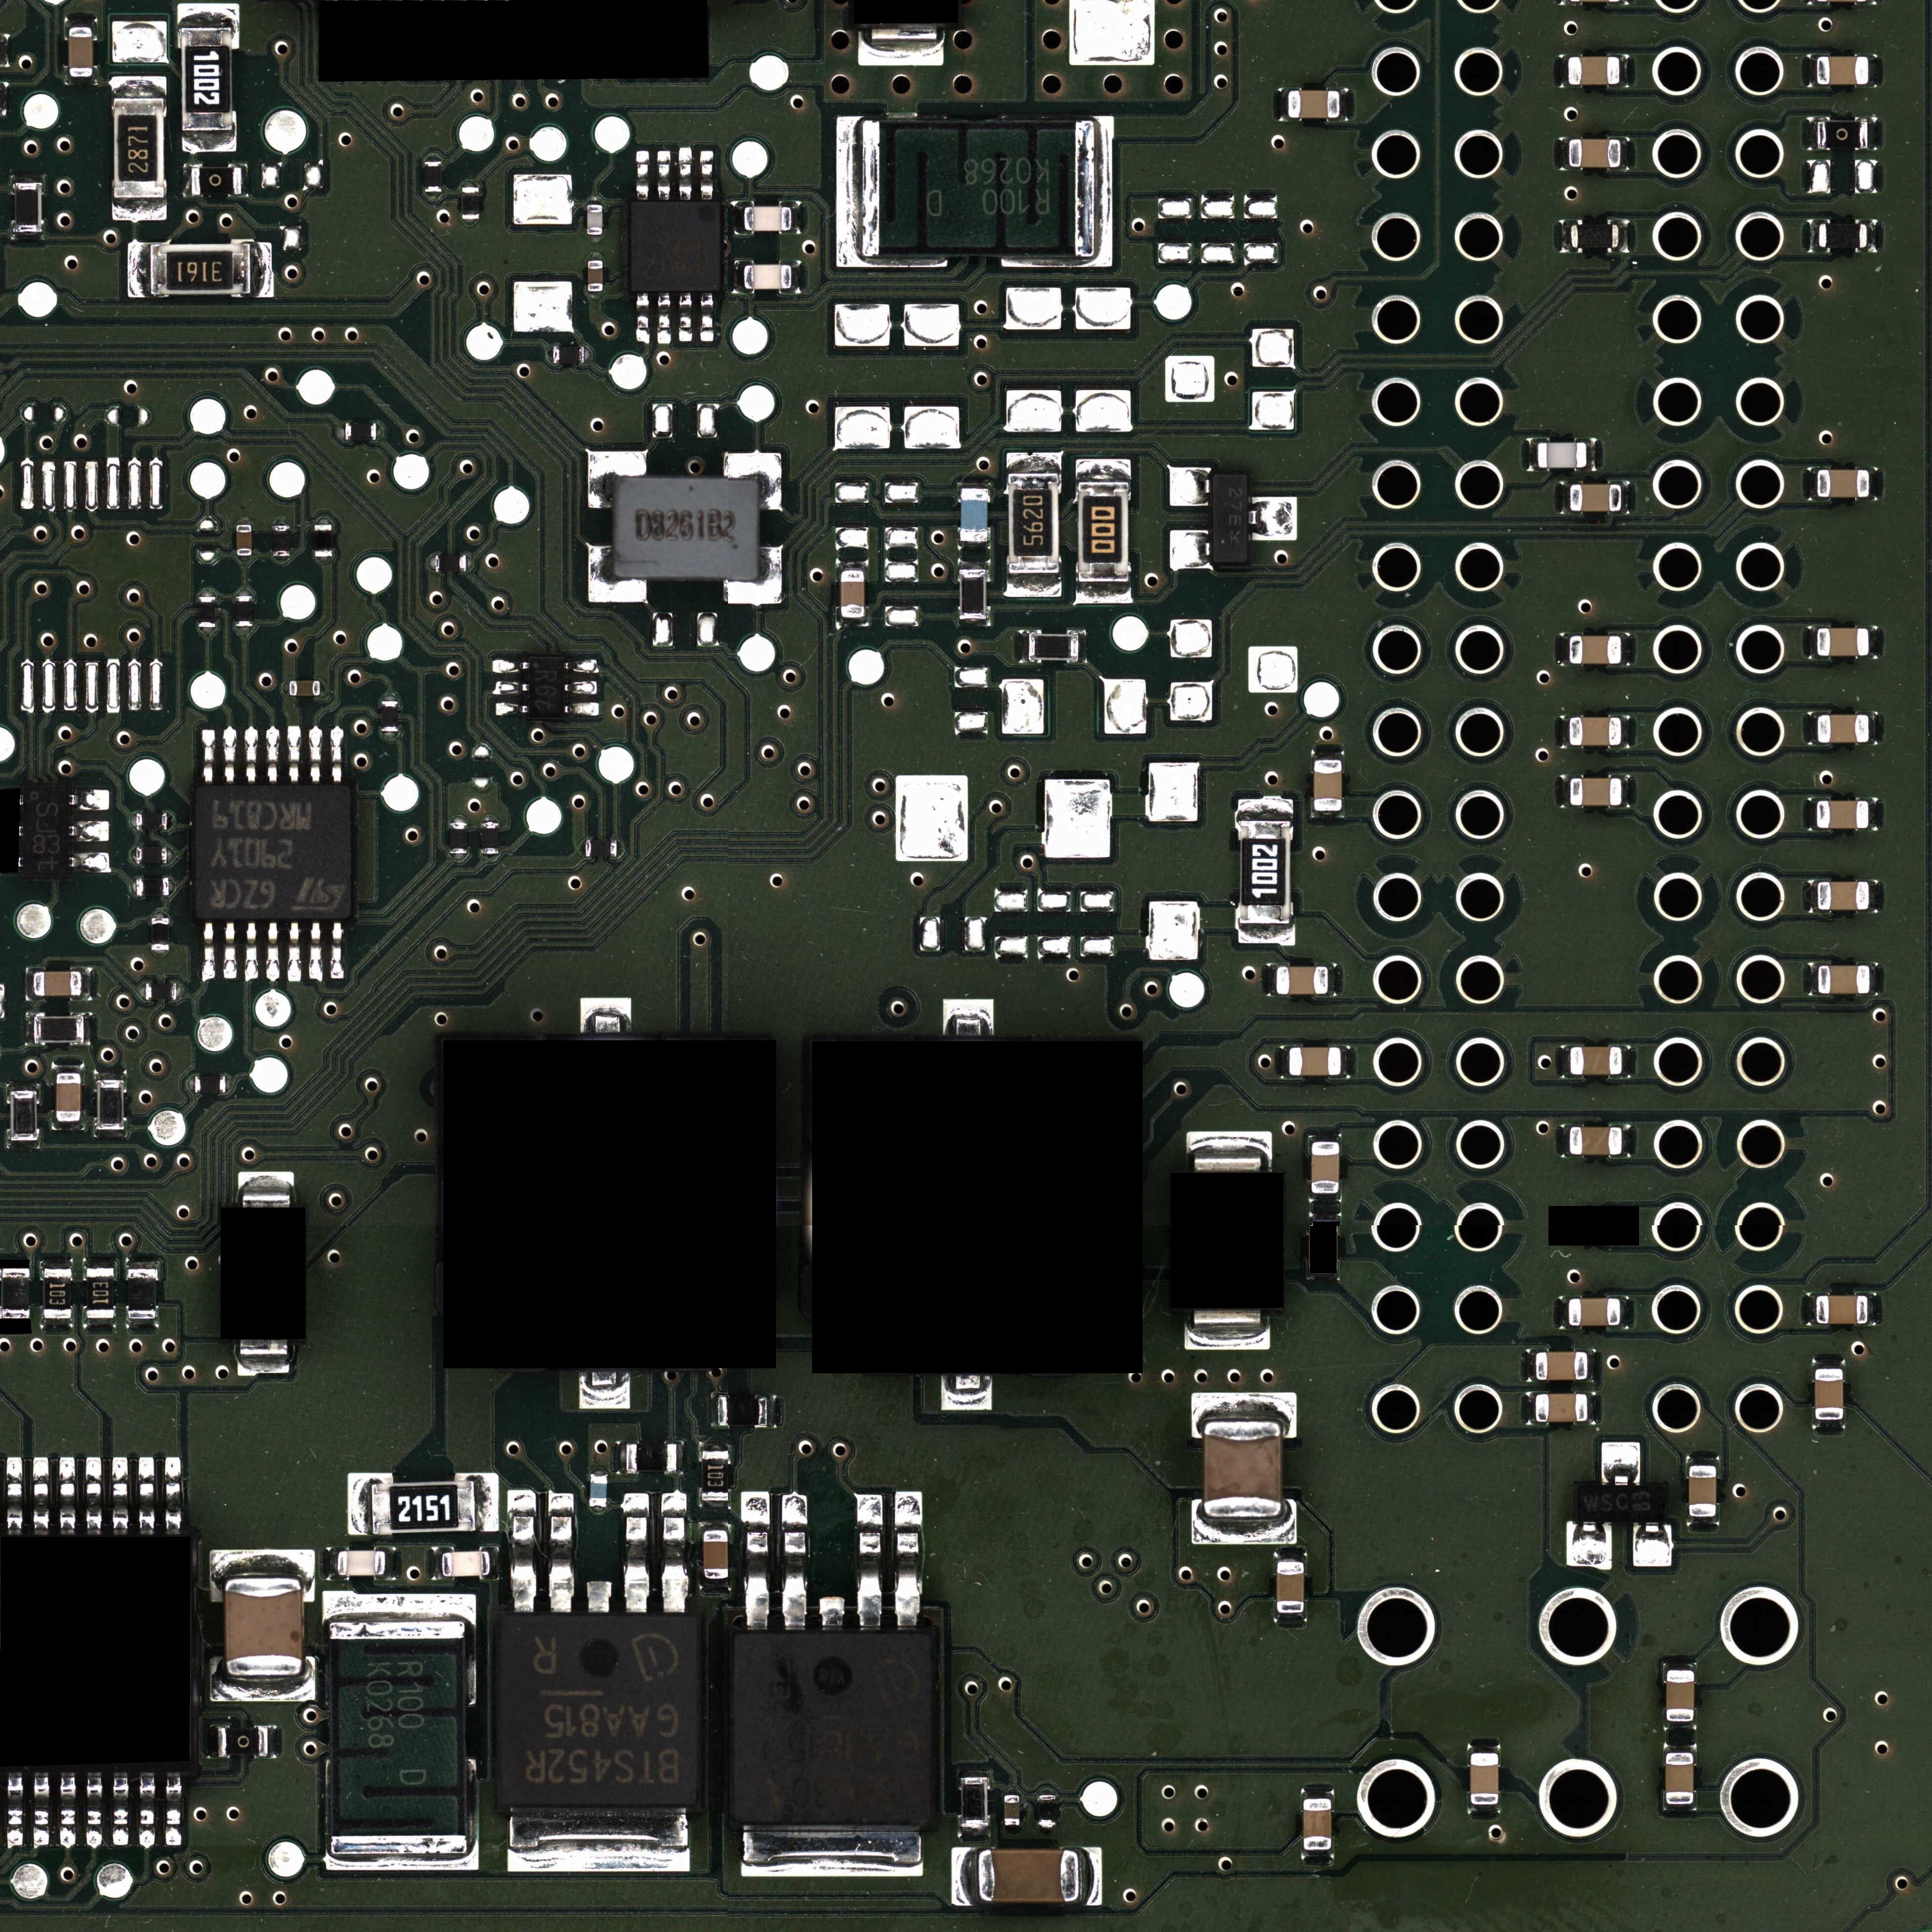Package: (499, 1616, 698, 1807), (734, 1634, 932, 1824), (863, 120, 1095, 257), (331, 1621, 467, 1853), (193, 784, 352, 919), (611, 476, 760, 580), (630, 201, 722, 291), (221, 1580, 306, 1676), (1201, 1422, 1284, 1516), (1238, 822, 1291, 924), (372, 1481, 475, 1533), (978, 1849, 1078, 1902), (182, 29, 234, 130), (151, 244, 250, 295), (1008, 475, 1059, 573), (1078, 483, 1129, 581), (114, 99, 164, 197), (24, 787, 68, 876), (1575, 1484, 1666, 1522), (1212, 474, 1249, 564), (529, 655, 564, 717), (1816, 56, 1869, 85), (1817, 965, 1870, 994), (960, 488, 988, 542), (1816, 800, 1869, 829), (1570, 1127, 1622, 1156), (1569, 717, 1621, 746), (1569, 139, 1621, 168), (1568, 56, 1620, 85), (1817, 628, 1869, 657), (1816, 1296, 1868, 1324), (1536, 1352, 1588, 1380), (1289, 1047, 1341, 1076), (1817, 469, 1869, 497), (1569, 1047, 1622, 1075), (1535, 1394, 1588, 1422), (1570, 636, 1621, 665), (1818, 882, 1869, 911), (1303, 1798, 1332, 1850), (217, 1727, 268, 1756), (1817, 715, 1869, 743), (1276, 966, 1328, 994), (1311, 1142, 1340, 1194), (1568, 1298, 1620, 1326), (626, 1444, 677, 1472), (1815, 1369, 1843, 1420), (128, 1269, 158, 1318), (1470, 1753, 1498, 1804), (1665, 1752, 1693, 1804), (718, 1397, 767, 1426), (1569, 484, 1621, 512), (1288, 91, 1340, 118), (1666, 1670, 1694, 1721), (1570, 778, 1621, 806), (1314, 760, 1342, 811), (1816, 121, 1867, 148), (1689, 1465, 1717, 1516), (1277, 1561, 1304, 1613), (87, 1268, 114, 1318), (44, 1268, 71, 1318), (2, 1268, 30, 1318), (192, 167, 241, 194), (702, 1450, 728, 1500), (34, 1016, 84, 1043), (1538, 442, 1587, 469), (960, 570, 986, 619), (1029, 634, 1078, 660), (962, 1777, 987, 1827), (15, 183, 41, 232), (1571, 223, 1619, 249), (11, 1091, 36, 1141), (1818, 223, 1867, 248), (34, 971, 82, 997), (98, 1080, 123, 1129), (56, 1073, 81, 1121), (744, 264, 791, 290), (704, 1530, 728, 1579), (69, 27, 93, 77), (338, 1551, 385, 1576), (442, 1551, 489, 1576), (744, 206, 791, 231), (841, 571, 865, 617), (313, 524, 334, 557), (1038, 1794, 1057, 1828), (461, 187, 480, 219), (151, 918, 170, 950), (423, 161, 442, 193), (145, 982, 177, 1001), (553, 345, 585, 364), (381, 700, 398, 732), (136, 812, 167, 830), (481, 822, 499, 854), (137, 878, 169, 896), (434, 555, 466, 572), (449, 821, 467, 854), (345, 423, 376, 440), (590, 1474, 607, 1507), (273, 526, 290, 556), (136, 847, 167, 864), (194, 1076, 226, 1093), (585, 840, 617, 857), (236, 596, 252, 627), (199, 597, 215, 627), (1004, 1795, 1020, 1826), (587, 204, 603, 235), (587, 260, 603, 291), (236, 526, 252, 555), (290, 680, 319, 696)
Solder: (508, 1807, 691, 1872), (741, 1825, 923, 1877), (322, 1591, 476, 1621), (836, 115, 863, 268), (893, 1493, 922, 1630), (743, 1494, 770, 1630), (781, 1494, 808, 1628), (1185, 1131, 1273, 1171), (857, 1496, 883, 1630), (509, 1491, 537, 1613), (724, 547, 782, 604), (723, 453, 781, 510), (588, 546, 646, 603), (661, 1493, 688, 1613), (1183, 1313, 1271, 1350), (588, 451, 646, 507), (858, 30, 944, 66), (548, 1493, 574, 1613), (624, 1493, 650, 1613), (1191, 1393, 1296, 1422), (1095, 116, 1114, 267), (1192, 1517, 1296, 1545), (211, 1675, 315, 1702), (211, 1550, 313, 1577), (327, 1853, 480, 1870), (1250, 495, 1297, 541), (1566, 1522, 1612, 1568), (578, 1371, 632, 1409), (942, 999, 995, 1035), (940, 1375, 994, 1411), (580, 997, 632, 1032), (237, 1171, 295, 1202), (237, 1344, 291, 1376), (1633, 1523, 1673, 1567), (1601, 1442, 1641, 1485), (1169, 530, 1211, 569), (1169, 467, 1210, 506), (5, 1772, 25, 1849), (162, 1773, 182, 1851), (137, 1773, 156, 1850), (31, 1772, 51, 1849), (59, 1772, 78, 1850), (109, 1773, 129, 1850), (952, 1847, 977, 1906), (85, 1773, 104, 1850), (58, 1455, 76, 1535), (164, 1456, 182, 1536), (6, 1456, 24, 1535), (32, 1457, 49, 1536), (85, 1456, 102, 1536), (138, 1455, 156, 1535), (111, 1456, 129, 1536), (348, 1473, 371, 1536), (177, 3, 239, 26), (1080, 1847, 1102, 1907), (476, 1473, 498, 1532), (1005, 575, 1062, 597), (1237, 798, 1293, 820), (112, 199, 167, 221), (1075, 460, 1131, 481), (128, 242, 149, 297), (1238, 924, 1296, 945), (1075, 583, 1132, 604), (111, 76, 166, 97), (251, 242, 272, 297), (1006, 453, 1062, 473), (182, 132, 237, 152), (69, 852, 111, 873), (819, 1597, 845, 1630), (243, 726, 258, 783), (266, 922, 280, 981), (288, 922, 302, 981), (244, 922, 258, 981), (69, 790, 110, 810), (69, 821, 109, 841), (586, 1581, 612, 1613), (223, 922, 237, 980), (266, 726, 280, 783), (287, 725, 301, 783), (309, 922, 323, 980), (223, 727, 237, 783), (308, 726, 322, 782), (678, 147, 693, 200), (202, 728, 216, 783), (330, 726, 343, 783), (202, 922, 215, 981), (657, 294, 672, 345), (331, 922, 343, 980), (656, 149, 671, 199), (699, 149, 714, 199), (699, 294, 714, 343), (678, 294, 693, 343), (636, 294, 650, 344), (636, 150, 650, 199), (492, 659, 529, 673), (493, 681, 529, 695), (564, 702, 599, 716), (565, 659, 598, 673), (495, 703, 529, 716), (565, 681, 597, 694), (82, 967, 93, 1000), (1278, 1045, 1289, 1078), (1559, 1045, 1570, 1078), (1807, 879, 1817, 914), (1867, 220, 1878, 252), (1527, 438, 1537, 472), (1869, 626, 1880, 659), (1559, 633, 1569, 666), (1265, 964, 1276, 996), (1869, 54, 1879, 87), (1807, 468, 1817, 500), (1869, 880, 1880, 913), (1868, 1293, 1878, 1325), (768, 1395, 777, 1428), (1621, 481, 1631, 514), (1526, 1391, 1536, 1425), (1559, 1124, 1569, 1158), (385, 1547, 395, 1579), (1621, 632, 1631, 665), (1526, 1349, 1536, 1382), (1806, 1293, 1816, 1326), (268, 1726, 278, 1757), (1807, 54, 1817, 87), (1807, 118, 1817, 150), (1621, 715, 1631, 748), (1559, 716, 1569, 748), (1869, 798, 1879, 830), (1807, 712, 1817, 745), (1622, 1124, 1632, 1157), (1619, 220, 1629, 252), (1560, 220, 1570, 252), (1274, 1613, 1307, 1623), (1807, 626, 1817, 659), (327, 1547, 337, 1579), (1620, 54, 1630, 87), (1588, 438, 1597, 472), (1870, 468, 1879, 501), (1560, 775, 1570, 808), (1812, 1359, 1845, 1368), (1808, 962, 1818, 995), (1300, 1850, 1335, 1859), (1301, 1789, 1334, 1798), (1560, 482, 1569, 514), (1869, 712, 1879, 745), (1559, 1297, 1568, 1329), (1621, 1296, 1630, 1328), (1622, 1045, 1632, 1077), (1279, 87, 1288, 121), (1812, 1420, 1846, 1429), (433, 1547, 442, 1579), (208, 1725, 217, 1757), (958, 1827, 990, 1836), (1868, 118, 1878, 150), (1807, 798, 1817, 830), (1663, 1743, 1697, 1752), (837, 619, 869, 628), (1588, 1392, 1597, 1424), (1328, 963, 1337, 996), (1621, 137, 1630, 170), (1809, 219, 1818, 252), (1622, 774, 1631, 808), (1588, 1349, 1596, 1382), (1687, 1456, 1720, 1465), (52, 1063, 84, 1072), (699, 1580, 730, 1589), (1019, 631, 1028, 662), (1662, 1804, 1697, 1812), (126, 1259, 159, 1268), (617, 1442, 626, 1474), (1341, 1045, 1350, 1078), (1559, 55, 1568, 88), (1467, 1805, 1501, 1814), (490, 1546, 499, 1579), (734, 261, 743, 293), (1559, 138, 1568, 170), (1870, 963, 1879, 995), (11, 174, 45, 182), (41, 1259, 73, 1268), (41, 1319, 73, 1328), (836, 561, 868, 570), (735, 202, 743, 236), (1687, 1517, 1720, 1526), (85, 1319, 116, 1328), (699, 1442, 730, 1450), (1312, 751, 1344, 760), (52, 1122, 84, 1131), (7, 1141, 40, 1150), (127, 1319, 158, 1328), (958, 560, 989, 569), (1274, 1552, 1306, 1561), (958, 542, 991, 550), (1311, 811, 1344, 819), (12, 232, 43, 241), (84, 1259, 115, 1267), (95, 1071, 126, 1080), (95, 1130, 126, 1139), (25, 968, 33, 1001), (1340, 89, 1348, 121), (1308, 1133, 1341, 1141), (1664, 1722, 1696, 1730), (65, 18, 96, 26), (1469, 1744, 1499, 1753), (1305, 1274, 1340, 1281), (26, 1013, 34, 1045), (1664, 1662, 1696, 1670), (183, 165, 191, 196), (1079, 631, 1087, 663), (1308, 1194, 1342, 1202), (1309, 1213, 1343, 1221), (65, 78, 97, 86), (700, 1522, 729, 1530), (959, 1769, 989, 1777), (7, 1083, 39, 1090), (792, 262, 800, 293), (710, 1393, 717, 1427), (84, 1014, 92, 1045), (792, 202, 799, 234), (700, 1501, 730, 1508), (959, 620, 989, 627), (677, 1442, 684, 1474), (241, 165, 248, 196), (959, 481, 990, 488), (480, 855, 500, 863), (448, 854, 468, 862), (380, 732, 399, 740), (377, 423, 385, 440), (381, 692, 399, 700), (337, 424, 344, 442), (198, 627, 216, 634), (1003, 1826, 1021, 1833), (151, 911, 168, 918), (168, 812, 175, 829), (168, 847, 175, 864), (424, 193, 442, 199), (199, 589, 216, 596), (236, 627, 253, 633), (315, 518, 332, 524), (139, 983, 145, 1000), (481, 816, 498, 822), (428, 555, 435, 571), (128, 813, 135, 829), (425, 154, 442, 161), (466, 554, 473, 571), (585, 346, 592, 363), (590, 1468, 607, 1474), (274, 519, 289, 526), (226, 1075, 232, 1093), (273, 556, 290, 563), (152, 950, 168, 957), (450, 815, 467, 821), (188, 1076, 194, 1093), (578, 840, 584, 856), (462, 220, 479, 226), (590, 1507, 607, 1513), (462, 181, 479, 187), (315, 557, 332, 563), (169, 878, 175, 895), (546, 346, 552, 363), (130, 847, 136, 864), (237, 589, 252, 596), (237, 518, 251, 525), (177, 984, 183, 1000), (588, 254, 602, 260), (1004, 1788, 1019, 1794), (1039, 1828, 1055, 1834), (283, 681, 289, 696), (321, 680, 326, 696), (617, 841, 623, 857), (1039, 1789, 1055, 1794), (237, 556, 251, 561), (587, 236, 601, 241), (131, 878, 135, 895), (587, 200, 602, 205), (589, 291, 602, 296)
